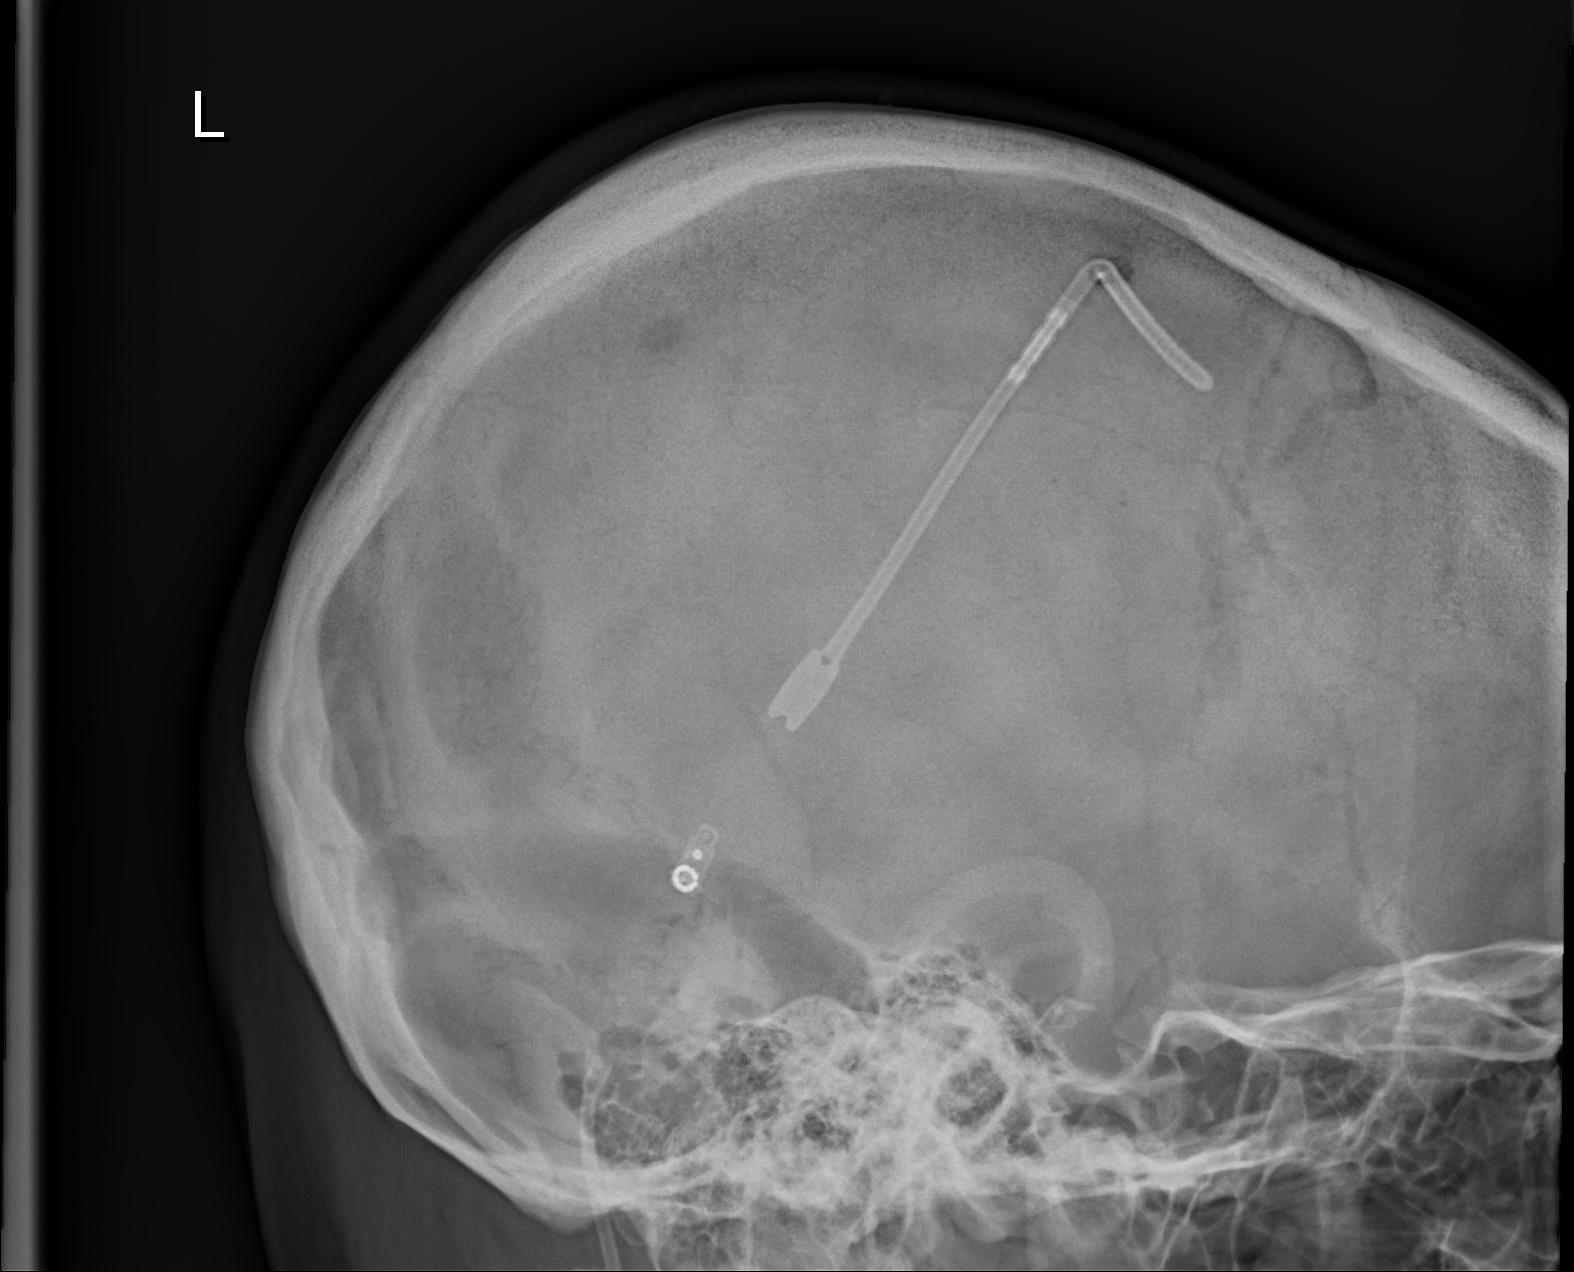Codman Hakim: (657, 819, 734, 911)
